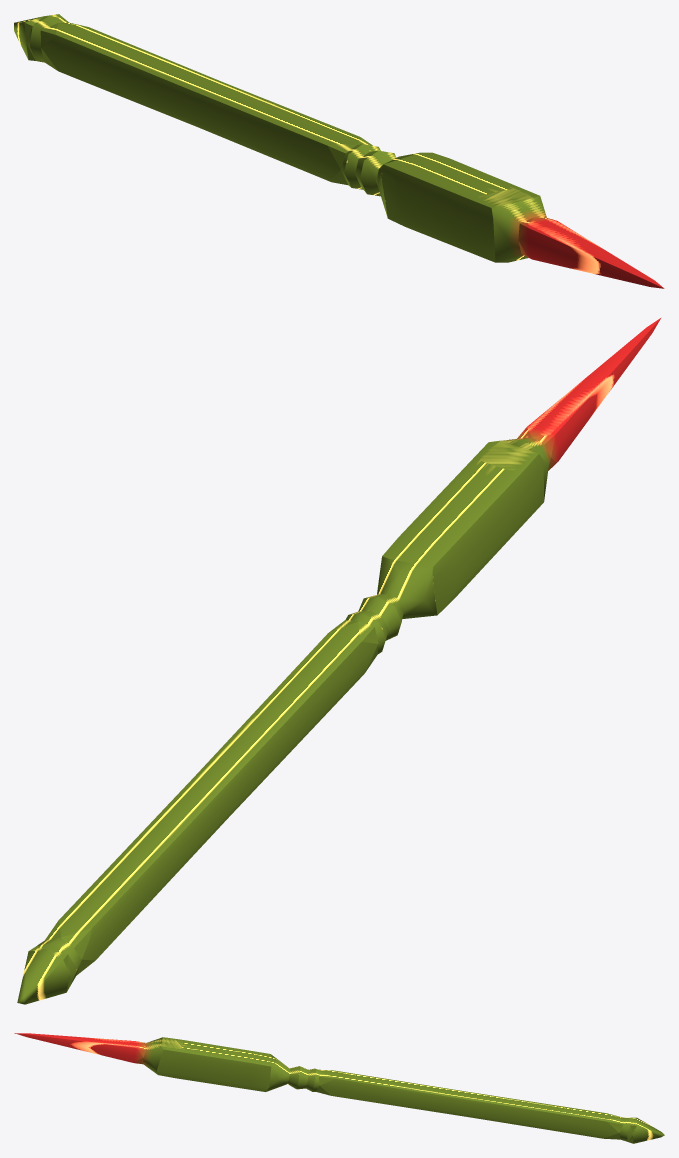
Rendered from Hunt_Weapon.glb.
3 renders of one model, top to bottom at view 1: azimuth 30°, elevation 25°; view 2: azimuth 150°, elevation 25°; view 3: azimuth 270°, elevation 25°, orthographic. The views are drawn at different scales.
Visible parts, largest first — view 1: Cube.006; view 2: Cube.006; view 3: Cube.006.
Boxes of the visible parts, x1,y1,x2,y2 form: Cube.006: (14, 14, 664, 288); Cube.006: (17, 317, 661, 1004); Cube.006: (14, 1033, 664, 1143).
Bounding box in the file's own units: 0.0885 × 0.3345 × 1.8.
Materials: 1 (1 with a texture image).
